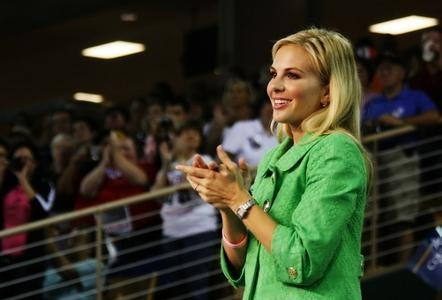person without safety: (243, 19, 372, 297)
